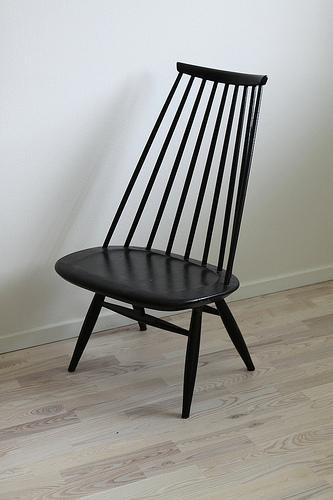obstacle: (55, 63, 266, 417)
